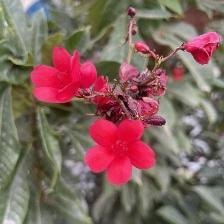jatropha: (82, 110, 159, 192)
